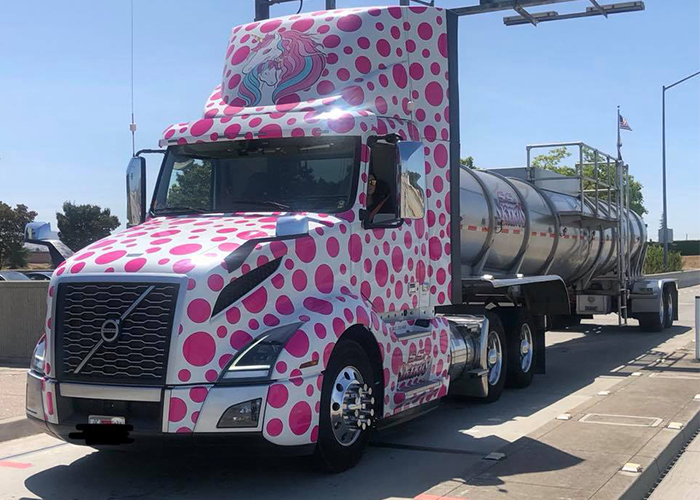Truck: (28, 11, 480, 467)
